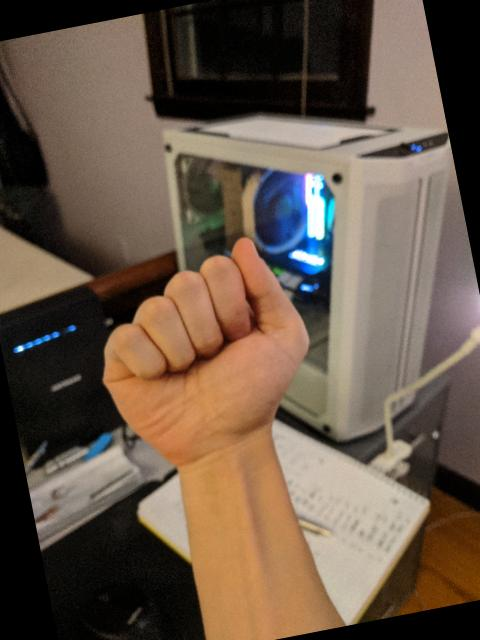A: (73, 223, 334, 480)
